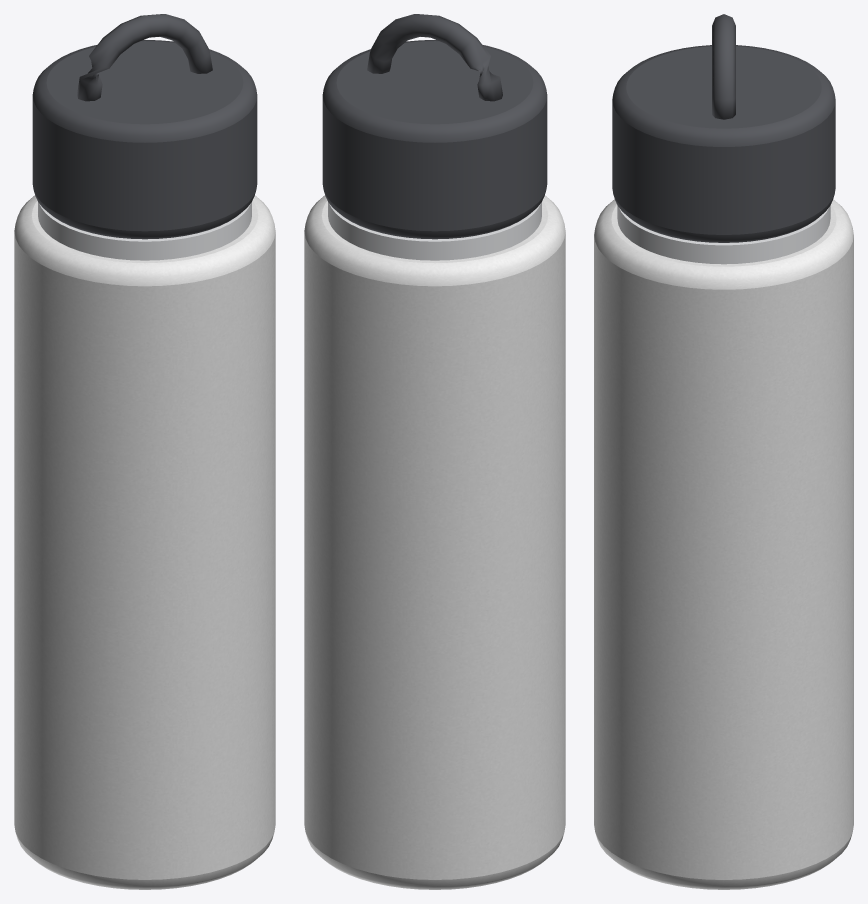
The model's file is flask.glb.
3 views of the same model, side by side, from view 1: azimuth 30°, elevation 25°; view 2: azimuth 150°, elevation 25°; view 3: azimuth 270°, elevation 25° (orthographic).
Parts seen in each view (by area): view 1: flask_body, flask_cap, flask_neck, flask_loop; view 2: flask_body, flask_cap, flask_neck, flask_loop; view 3: flask_body, flask_cap, flask_neck, flask_loop.
Boxes of the visible parts, box(x1,y1,x2,y2) form: flask_body: box(14, 195, 275, 889); flask_cap: box(32, 40, 257, 239); flask_neck: box(38, 202, 251, 260); flask_loop: box(77, 14, 212, 101); flask_body: box(304, 195, 565, 889); flask_cap: box(322, 40, 547, 239); flask_neck: box(328, 202, 541, 260); flask_loop: box(367, 14, 502, 101); flask_body: box(594, 199, 853, 889); flask_cap: box(612, 45, 835, 242); flask_neck: box(617, 205, 830, 264); flask_loop: box(712, 14, 735, 119).
Bounding box in the file's own units: 7.5 × 26.12 × 7.5.
Materials: 3 (1 with a texture image).
